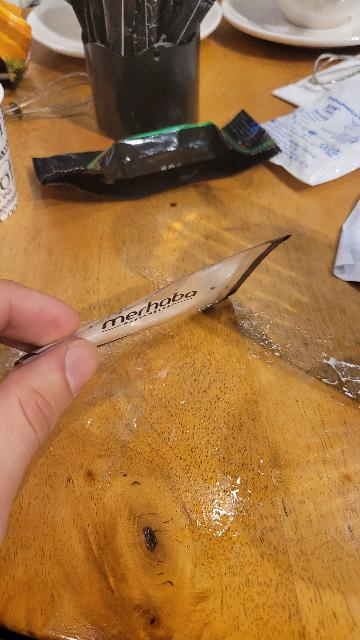Kagit: (19, 232, 295, 374)
Plastik: (27, 112, 279, 203)
